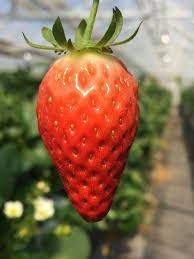ripe: (36, 47, 137, 222)
